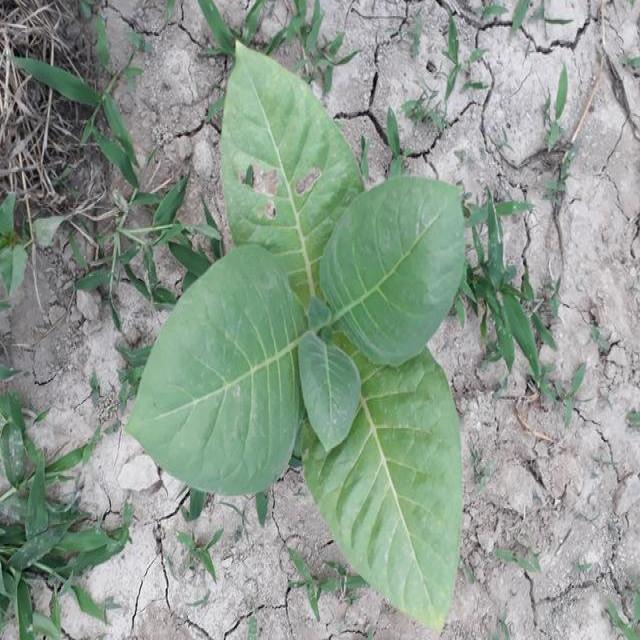crop: (148, 60, 512, 600)
